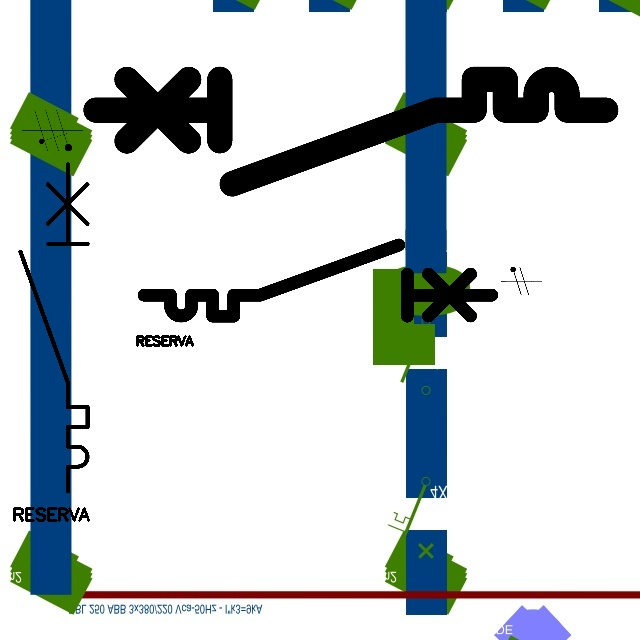interruptor_termomagnetico: (82, 66, 619, 197), (135, 236, 500, 325), (12, 155, 96, 499)
